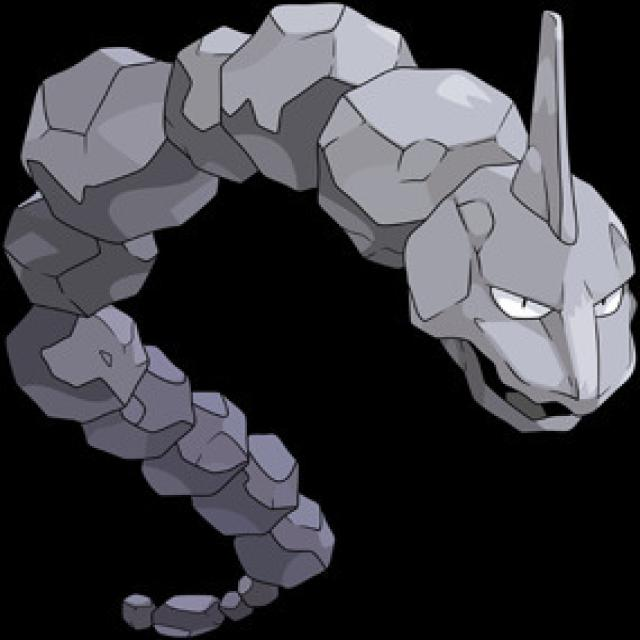Onix: (14, 11, 633, 440)
